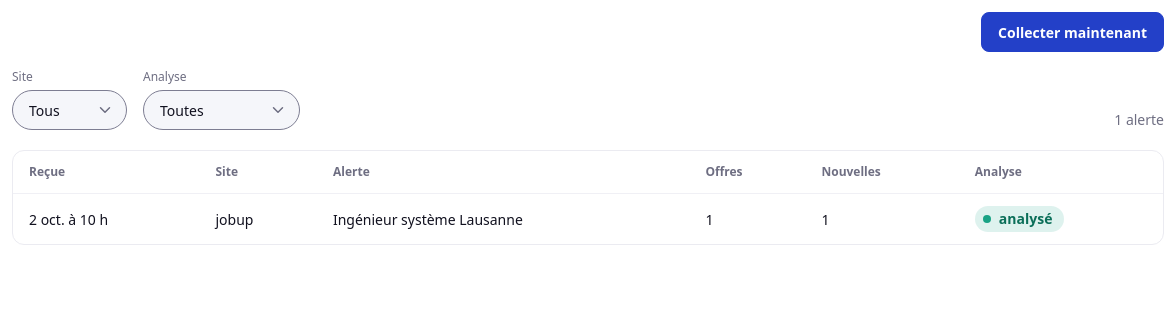
Test case: JournalView › liste les alertes et affiche les offres d'une alerte au clic
Expected: the row with test id "search" shows "Ingénieur système Lausanne", [333,210,523,229]
Expected: the row with test id "search" shows "analysé", [999,209,1052,228]
Click the row with test id "search": point(69, 219) [13,194,1163,244]
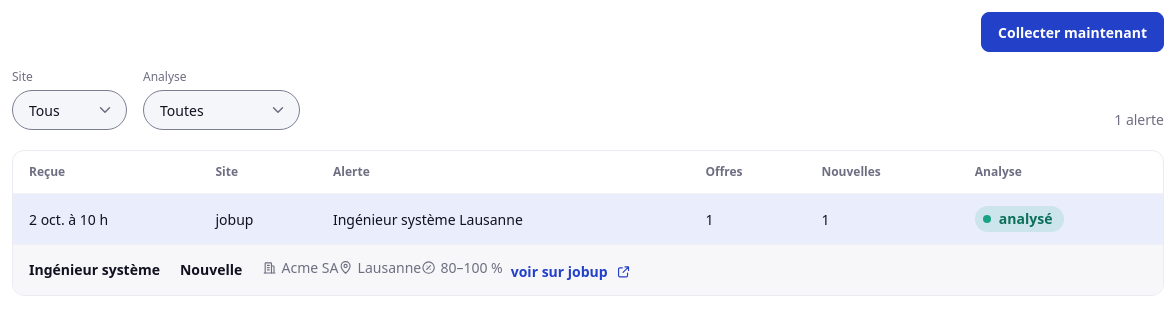
Now the text with test id "detail-offer-new" reads "Nouvelle", box [180,260,242,279]
Now the list item with test id "detail-offer" shows "80–100 %", box [440,258,503,277]
